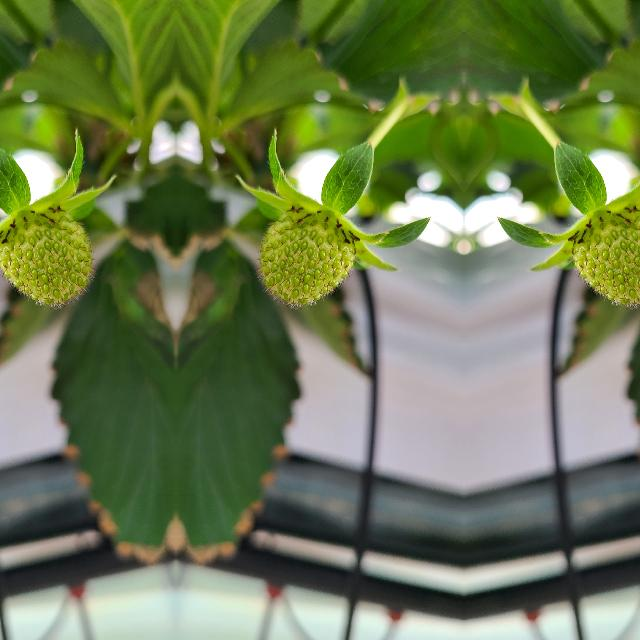Health_25: (258, 211, 354, 305), (0, 211, 91, 305), (572, 211, 640, 305)
